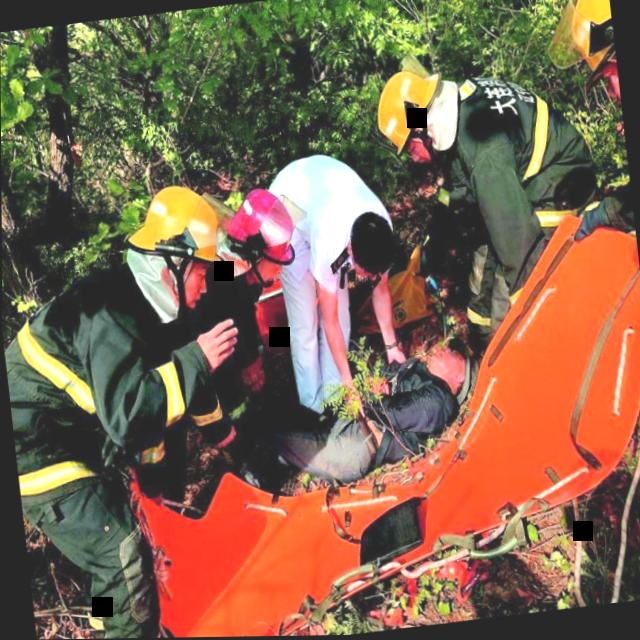Fall-Detected: (234, 313, 496, 501)
